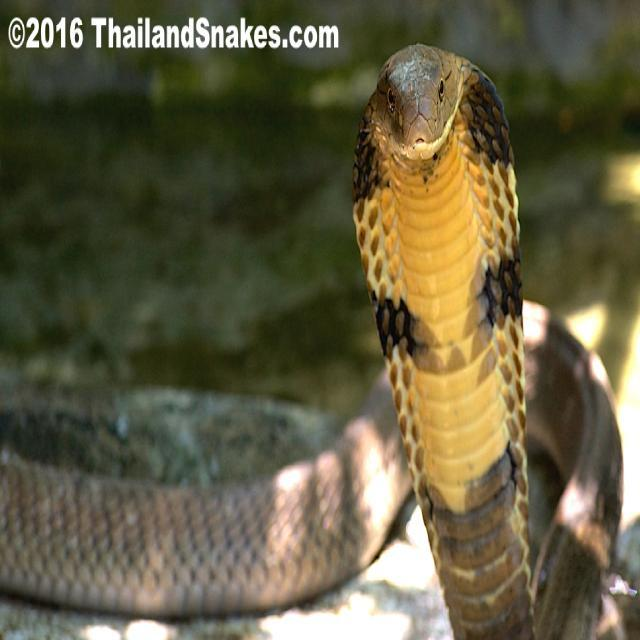Snake: (1, 40, 624, 635)
